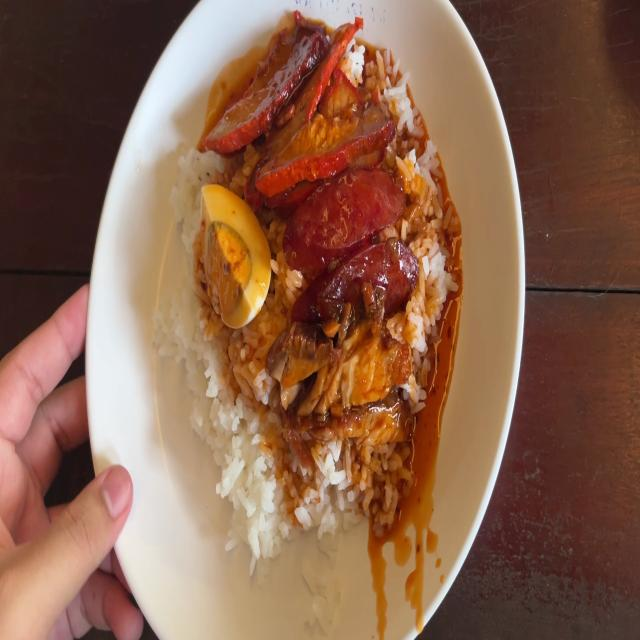01boiled_egg: (199, 185, 270, 322)
01chainese_sausage: (292, 176, 411, 324)
01crispy_pork: (281, 334, 411, 454)
01red_pork: (213, 33, 390, 185)
01red_pork_and_crispy_pork: (171, 34, 446, 535)
01rice: (189, 332, 273, 532), (269, 445, 407, 529)
